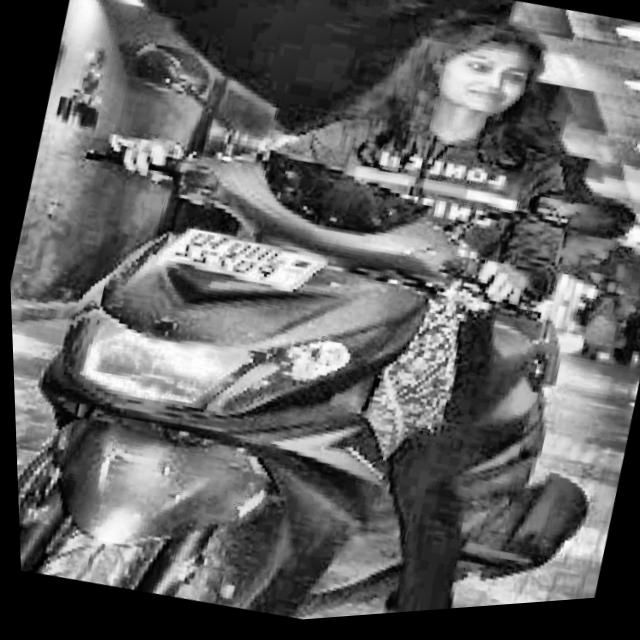motorcycle: (3, 76, 640, 640)
